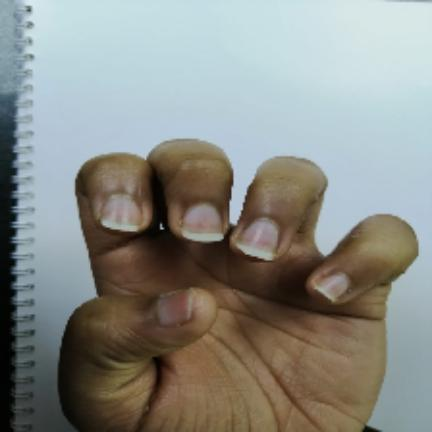Nail: (236, 218, 279, 261), (182, 203, 224, 242), (100, 195, 142, 232), (156, 289, 193, 326), (314, 273, 350, 302)
